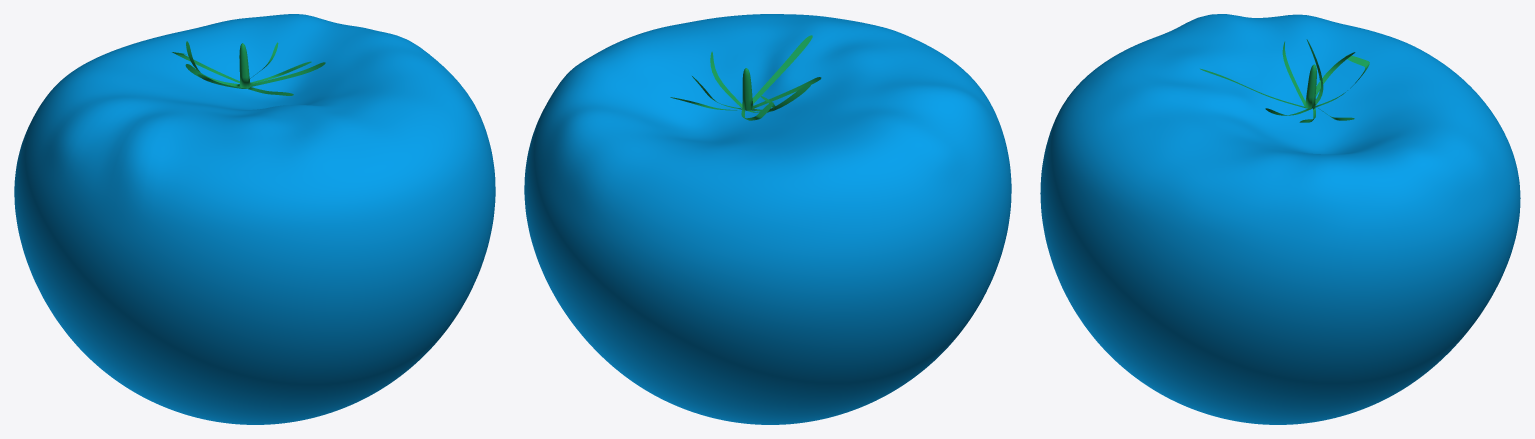
File: blue.glb
3 views of the same model, side by side, from view 1: azimuth 30°, elevation 25°; view 2: azimuth 150°, elevation 25°; view 3: azimuth 270°, elevation 25° (orthographic).
Visible parts, largest first — view 1: Sphere; view 2: Sphere; view 3: Sphere.
Part boxes in pixels (x1,y1,x2,y2): Sphere: (14,14,495,424); Sphere: (524,14,1011,424); Sphere: (1040,14,1520,424).
Size of the model in its own units: 1.99 by 1.62 by 2.
